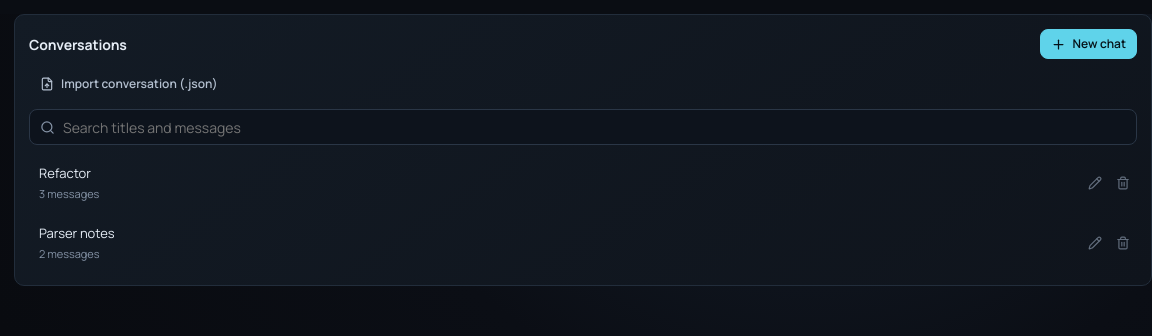
Test: ConversationList content search › filters the titles at once, without waiting for the message search
Type "parser" into the search field at (594, 127), box top-left (63, 110), bottom-right (1126, 144)
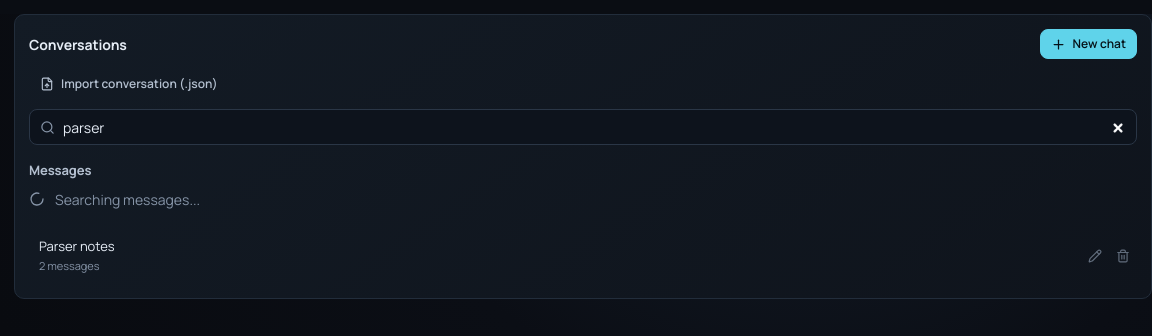
expect the button "Parser notes 2 messages" is shown: met, box top-left (29, 228), bottom-right (1077, 284)
expect the button "Refactor" is gone: met
